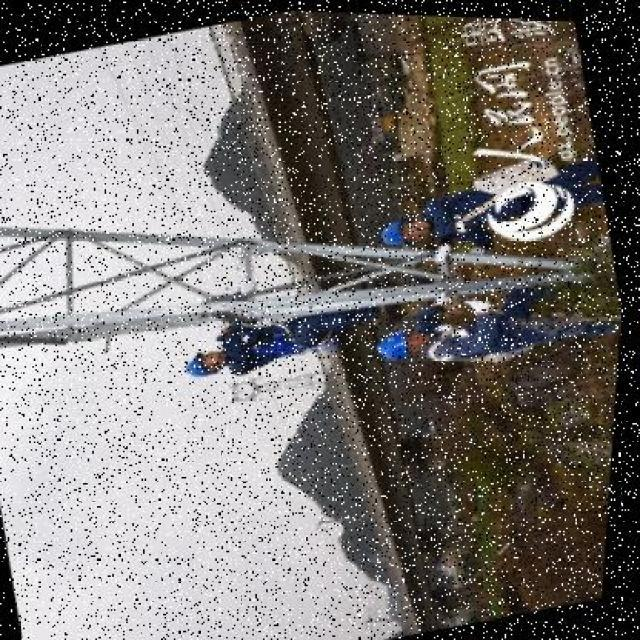helmet: (374, 317, 426, 367), (172, 343, 225, 385), (377, 209, 425, 251)
